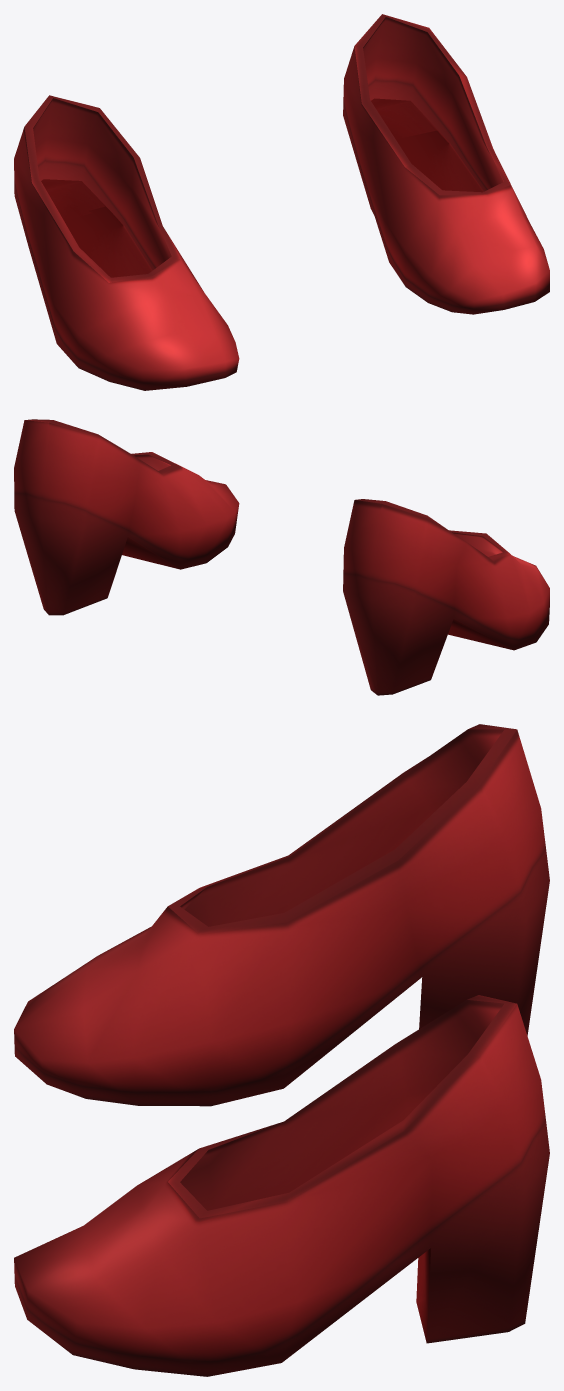
The model's file is TPFFeetC.fbx.
3 renders of one model, top to bottom at view 1: azimuth 30°, elevation 25°; view 2: azimuth 150°, elevation 25°; view 3: azimuth 270°, elevation 25°, orthographic. The views are drawn at different scales.
Parts seen in each view (by area): view 1: TPFFeetC; view 2: TPFFeetC; view 3: TPFFeetC.
Boxes of the visible parts, bbox=[...] form: TPFFeetC: bbox=[14, 14, 549, 390]; TPFFeetC: bbox=[14, 419, 549, 695]; TPFFeetC: bbox=[14, 724, 549, 1376].
Size of the model in its own units: 22.06 by 8.77 by 13.24.
1 material, 1 textured.
